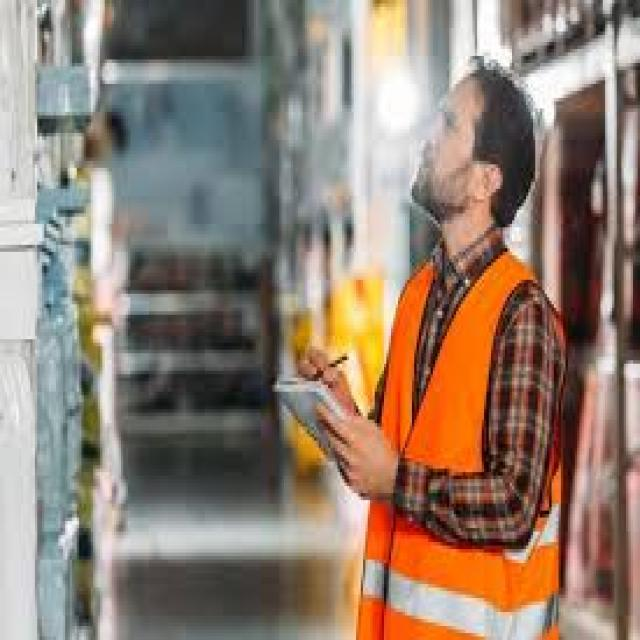Reflective-Jacket: (344, 248, 568, 633)
